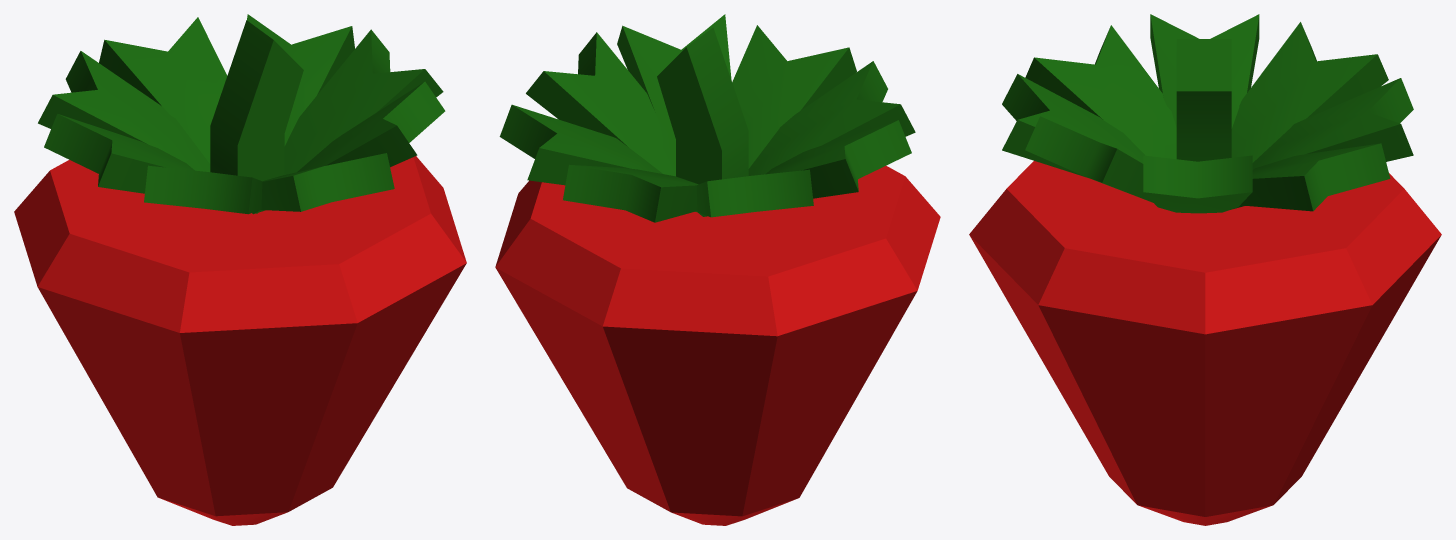
The model's file is fresa.FBX.
3 views of the same model, side by side, from view 1: azimuth 30°, elevation 25°; view 2: azimuth 150°, elevation 25°; view 3: azimuth 270°, elevation 25° (orthographic). The views are drawn at different scales.
Visible parts, largest first — view 1: fresa; view 2: fresa; view 3: fresa.
Boxes of the visible parts, x1,y1,x2,y2 form: fresa: (14,14,466,525); fresa: (495,14,940,525); fresa: (969,14,1441,525).
Size of the model in its own units: 7.61 by 8.58 by 7.61.
